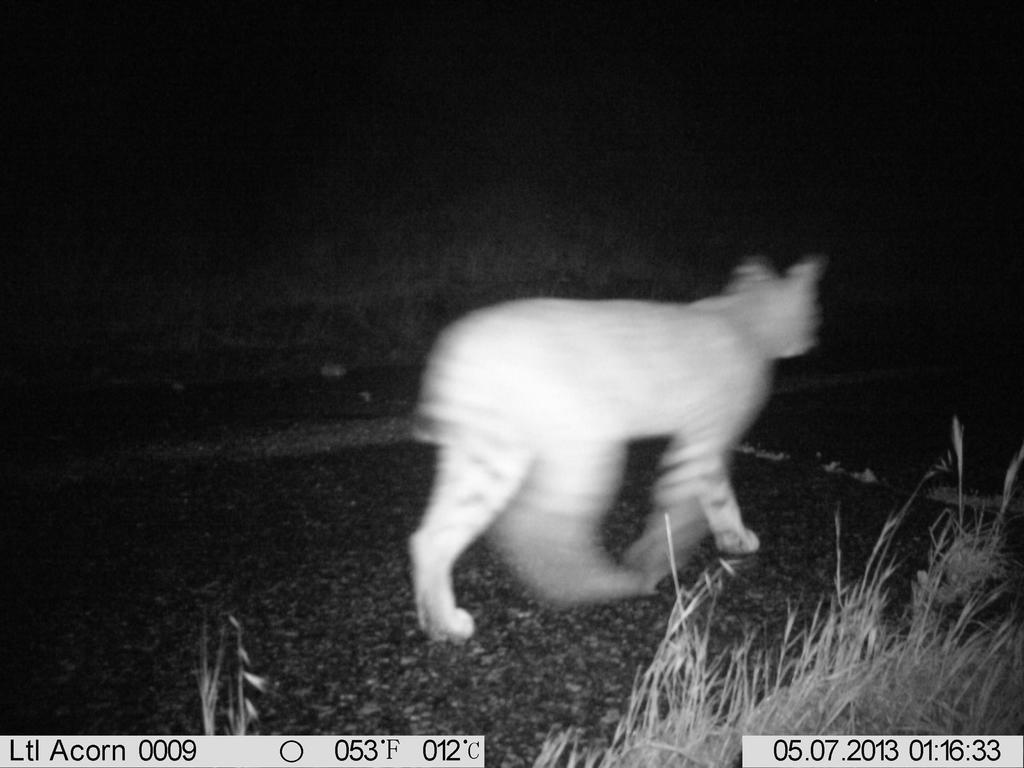bobcat: (399, 237, 847, 647)
